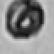correct: (5, 0, 46, 40)
